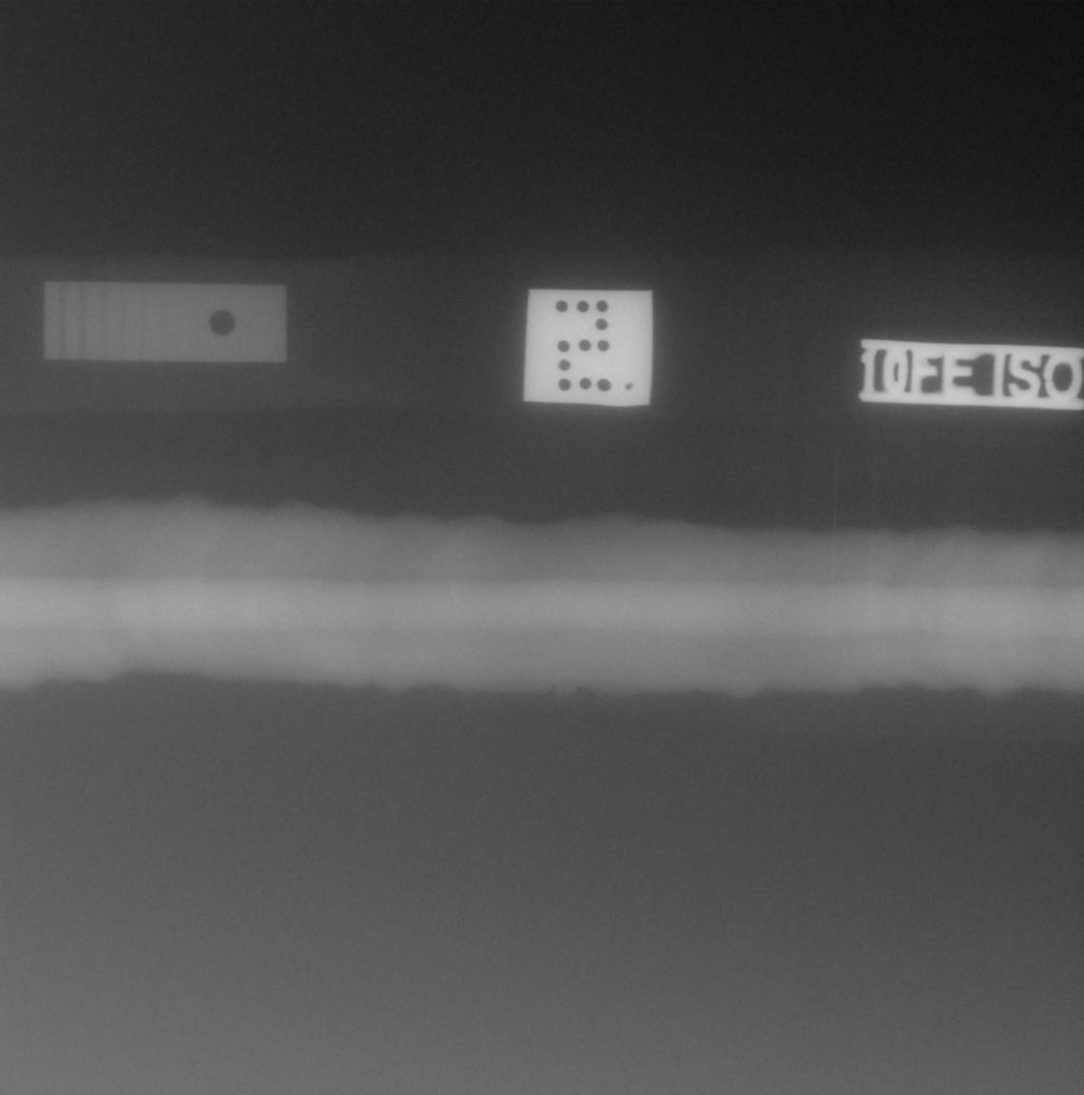Inclusion: (956, 613, 963, 619)
Reference Standard 1: (43, 280, 287, 363)
